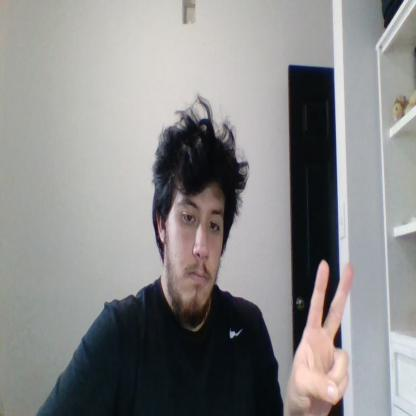V: (286, 259, 356, 415)
